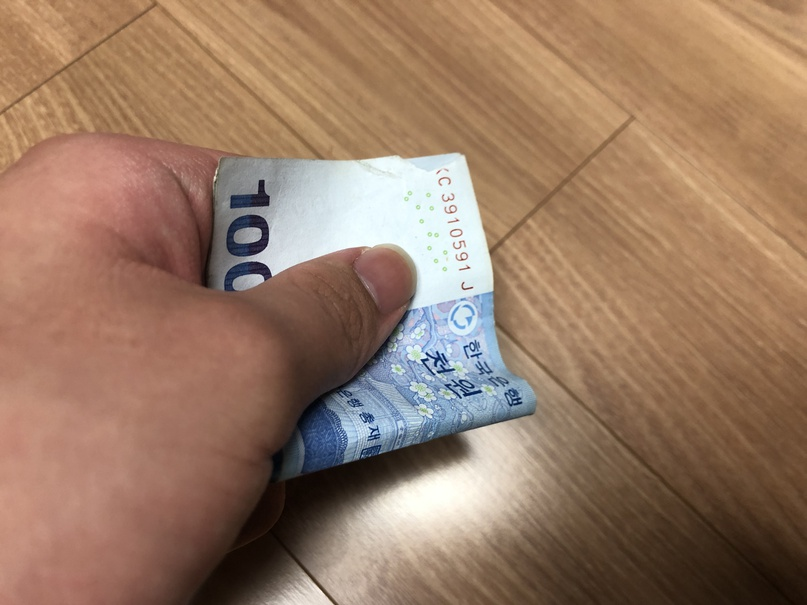1000won: (206, 155, 536, 482)
